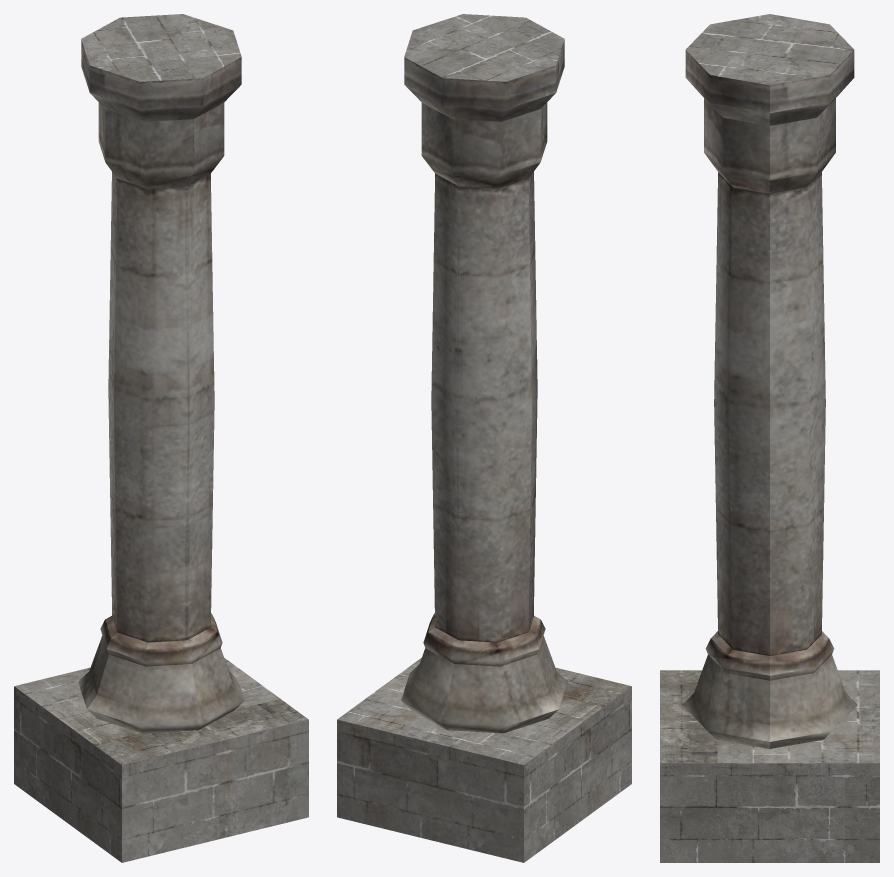
Rendered from bg_lut_lucastle_churchpillar01_sm_ksh.FBX.
The picture shows the model from 3 angles, left to right: view 1: azimuth 30°, elevation 25°; view 2: azimuth 150°, elevation 25°; view 3: azimuth 270°, elevation 25°; orthographic projection.
Visible parts, largest first — view 1: bg_lut_lucastle_churchpillar01_sm_ksh; view 2: bg_lut_lucastle_churchpillar01_sm_ksh; view 3: bg_lut_lucastle_churchpillar01_sm_ksh.
Part boxes in pixels (left/top/right/bottom): bg_lut_lucastle_churchpillar01_sm_ksh: left=14, top=14, right=308, bottom=862; bg_lut_lucastle_churchpillar01_sm_ksh: left=337, top=14, right=631, bottom=862; bg_lut_lucastle_churchpillar01_sm_ksh: left=660, top=14, right=879, bottom=862.
Size of the model in its own units: 64 by 246 by 64.
